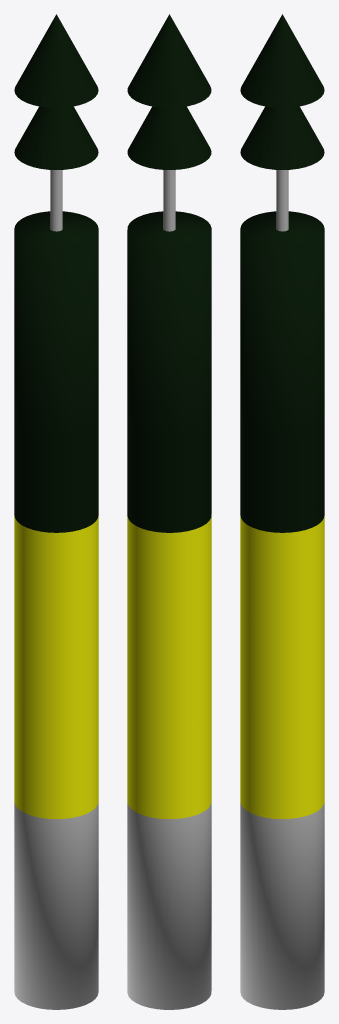
The model's file is Bcn-North.gltf.
3 views of the same model, side by side, from view 1: azimuth 90°, elevation 25°; view 2: azimuth 150°, elevation 25°; view 3: azimuth 270°, elevation 25° (orthographic).
Visible parts, largest first — view 1: Cylinder.033, Cone 1.008, Cone 1.002, Axe.009; view 2: Cylinder.033, Cone 1.008, Cone 1.002, Axe.009; view 3: Cylinder.033, Cone 1.008, Cone 1.002, Axe.009.
Boxes of the visible parts, x1,y1,x2,y2 form: Cylinder.033: (14,211,98,1009); Cone 1.008: (14,14,98,107); Cone 1.002: (14,106,98,169); Axe.009: (50,170,62,231); Cylinder.033: (127,211,211,1009); Cone 1.008: (127,14,211,107); Cone 1.002: (127,106,211,169); Axe.009: (163,170,175,231); Cylinder.033: (240,211,324,1009); Cone 1.008: (240,14,324,107); Cone 1.002: (240,106,324,169); Axe.009: (276,170,288,231).
Size of the model in its own units: 0.4 by 5.13 by 0.4.
